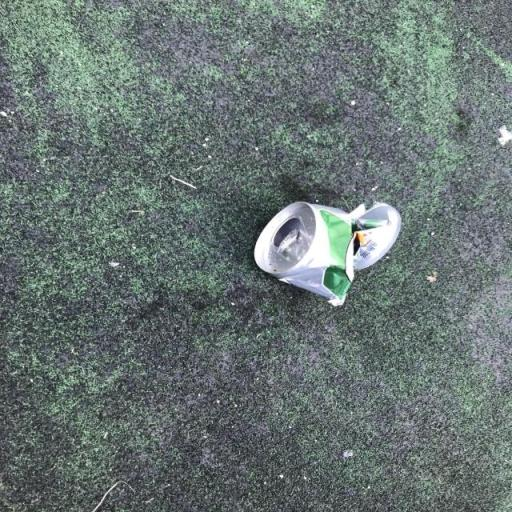metal: (232, 188, 438, 327)
